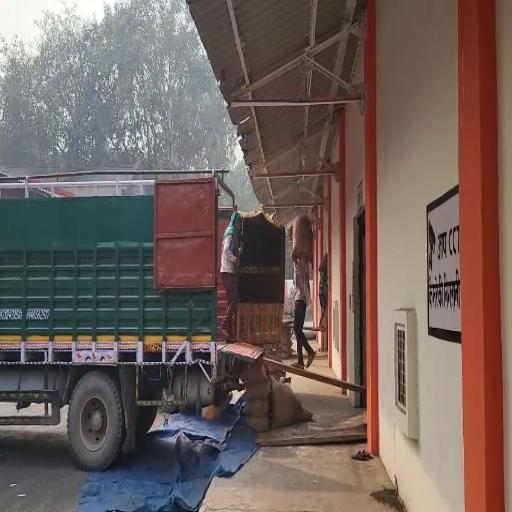bag: (290, 215, 317, 268)
